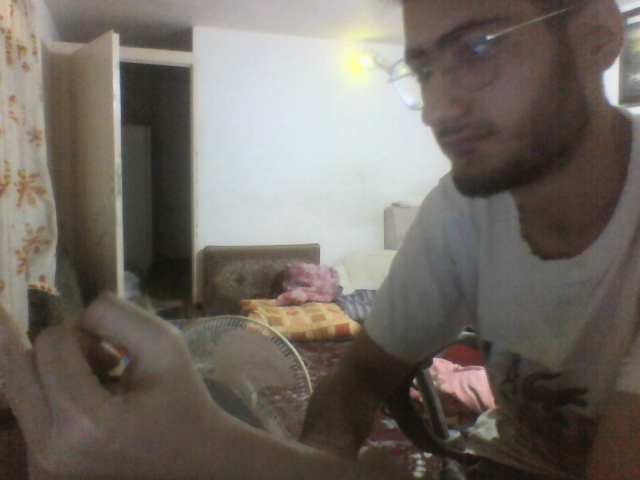fuck: (0, 291, 231, 478)
sorat: (399, 1, 627, 195)
